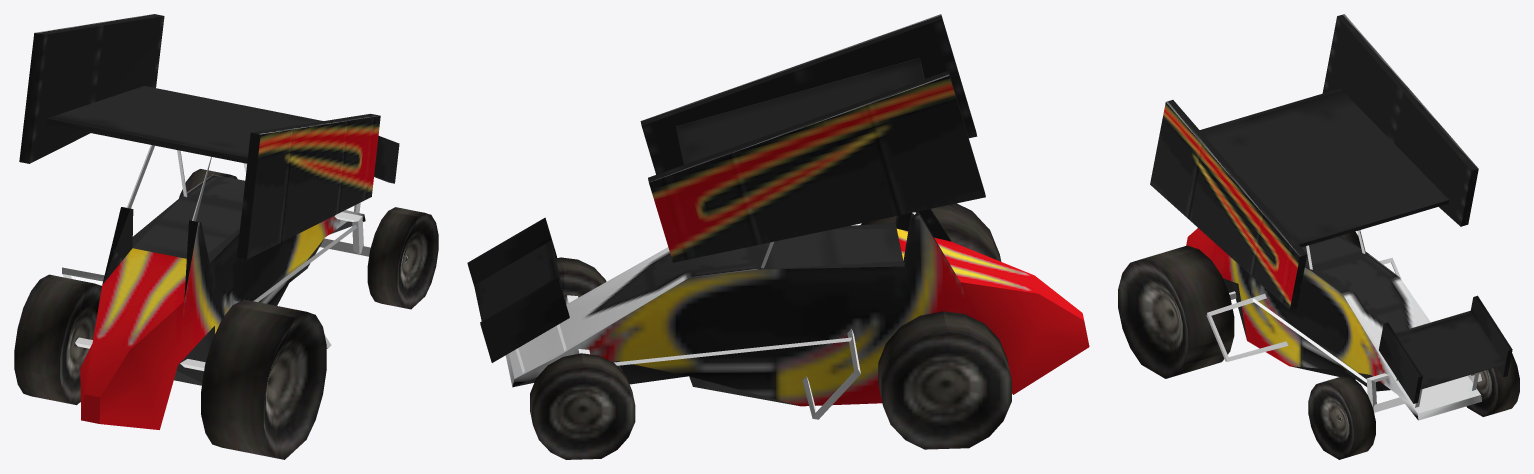
File: sc2007.ico.obj
The picture shows the model from 3 angles, left to right: view 1: azimuth 30°, elevation 25°; view 2: azimuth 150°, elevation 25°; view 3: azimuth 270°, elevation 25°; orthographic projection. The views are drawn at different scales.
Size of the model in its own units: 3.31 by 2.56 by 3.11.
1 material, 1 textured.
